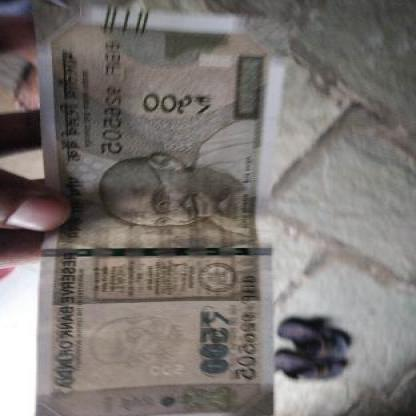New500Front: (38, 18, 274, 415)
